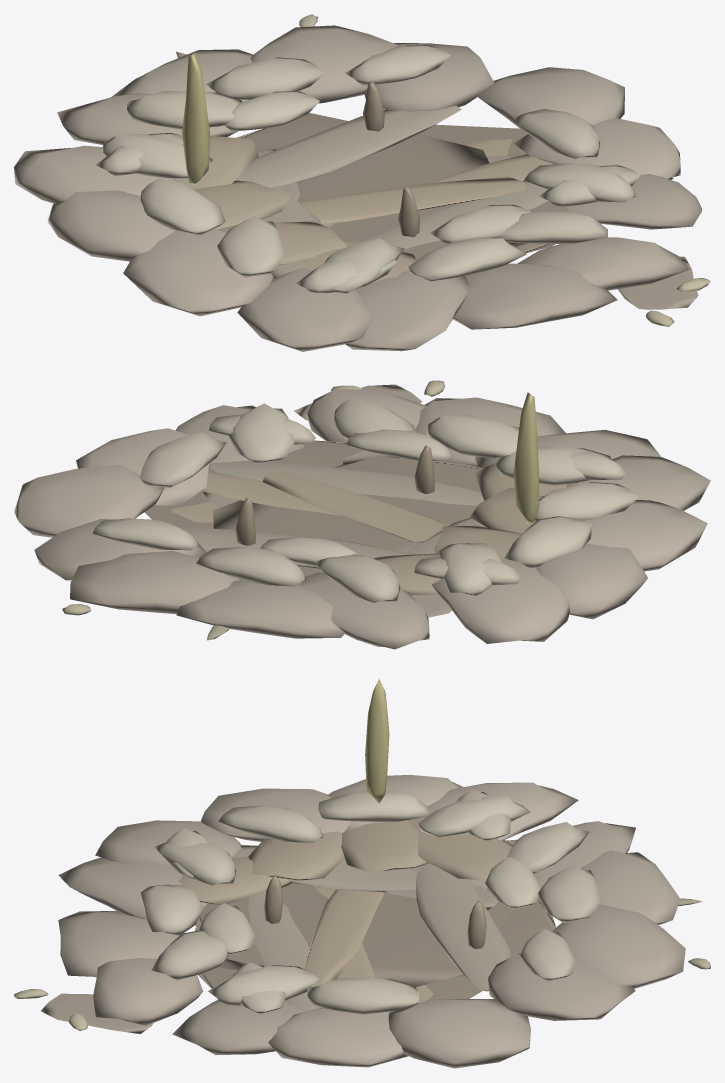
Rendered from m_dugout_eb8ada6e.glb.
3 views of the same model, one above another, from view 1: azimuth 30°, elevation 25°; view 2: azimuth 150°, elevation 25°; view 3: azimuth 270°, elevation 25° (orthographic). The views are drawn at different scales.
Visible parts, largest first — view 1: mesh; view 2: mesh; view 3: mesh.
Boxes of the visible parts, x1,y1,x2,y2 form: mesh: (14, 14, 710, 351); mesh: (14, 380, 710, 649); mesh: (14, 678, 710, 1068).
Bounding box in the file's own units: 36.52 × 12.05 × 39.82.
